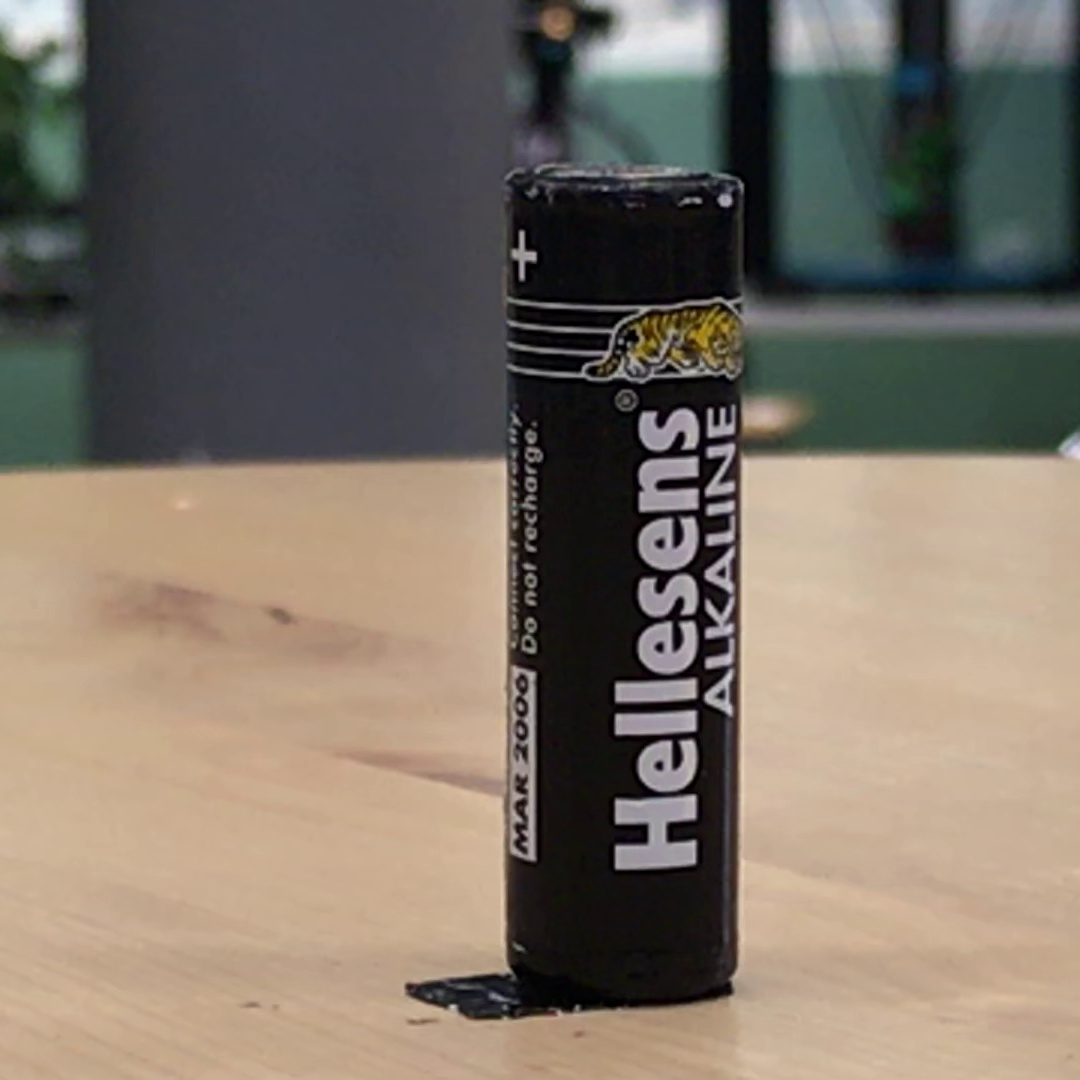keyword: (695, 599, 744, 727)
